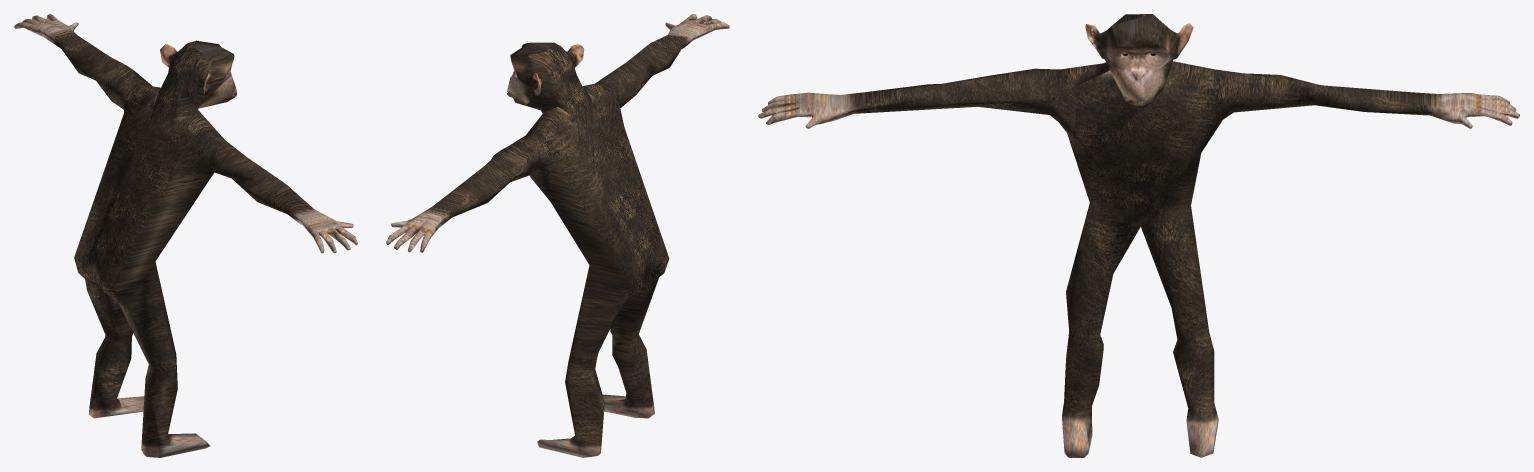
The model's file is chimpanzee.glb.
3 renders of one model, left to right at view 1: azimuth 30°, elevation 25°; view 2: azimuth 150°, elevation 25°; view 3: azimuth 270°, elevation 25°, orthographic. The views are drawn at different scales.
Visible parts, largest first — view 1: 3DSMeshMatrix; view 2: 3DSMeshMatrix; view 3: 3DSMeshMatrix.
Boxes of the visible parts, <box> form: 3DSMeshMatrix: <box>14,14,357,457</box>; 3DSMeshMatrix: <box>386,14,729,457</box>; 3DSMeshMatrix: <box>758,14,1519,457</box>.
Size of the model in its own units: 1784 by 4395 by 6729.
Materials: 2 (2 with a texture image).
